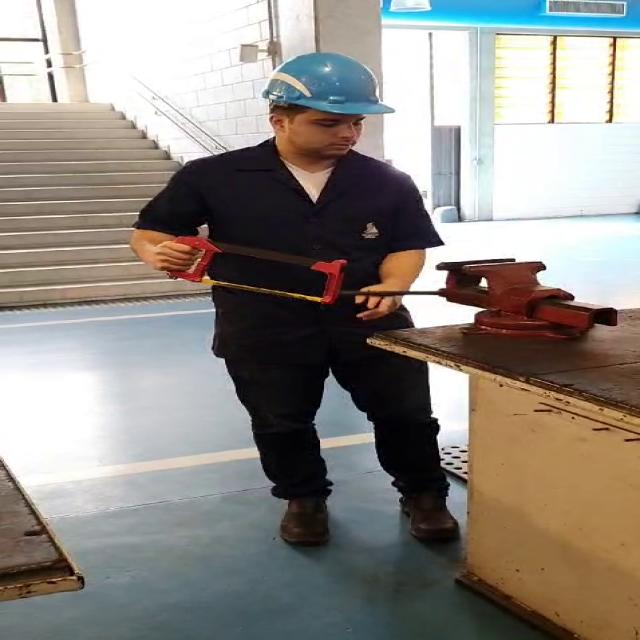sem_oculos: (263, 112, 392, 134)
